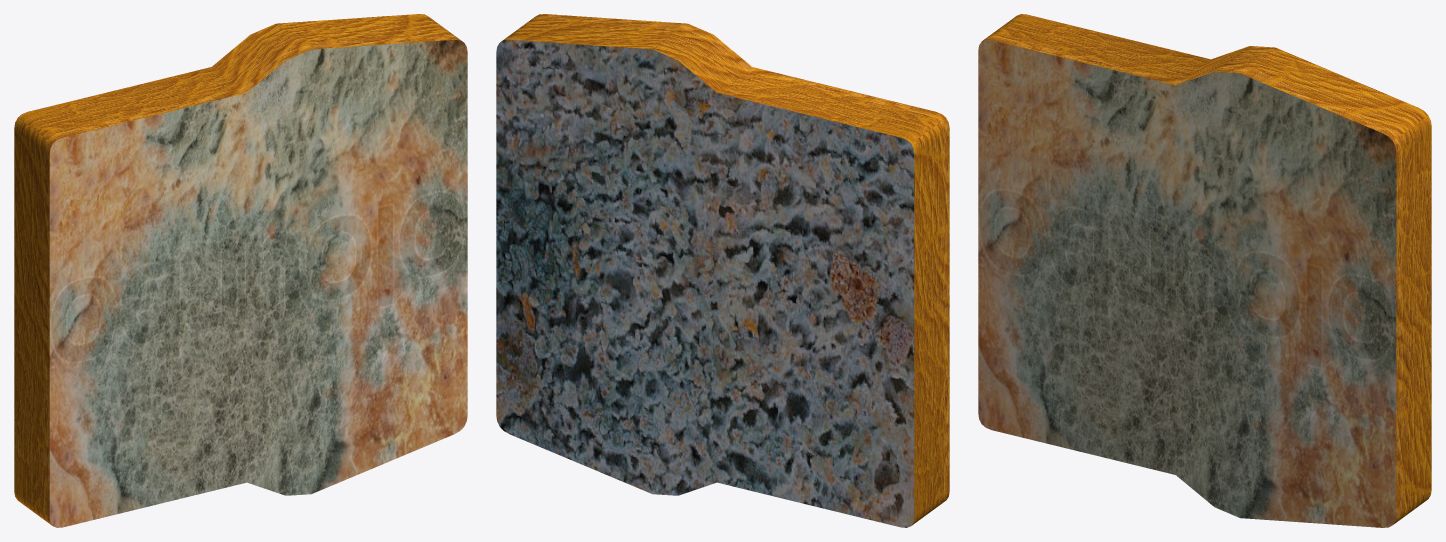
Rendered from SpoiledBread.fbx.
The picture shows the model from 3 angles, left to right: view 1: azimuth 30°, elevation 25°; view 2: azimuth 150°, elevation 25°; view 3: azimuth 330°, elevation 25°; orthographic projection.
Visible parts, largest first — view 1: Box001; view 2: Box001; view 3: Box001.
Boxes of the visible parts, left/top/right/bottom form: Box001: left=14, top=14, right=467, bottom=527; Box001: left=496, top=14, right=949, bottom=527; Box001: left=978, top=14, right=1431, bottom=527.
Bounding box in the file's own units: 30.48 × 30.97 × 4.46.
3 materials, 3 textured.
